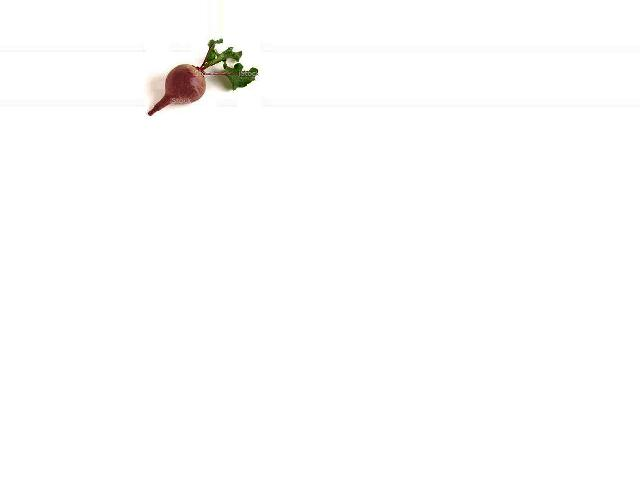beet: (148, 38, 258, 115)
